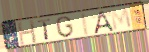A: (93, 9, 115, 35)
G: (55, 15, 75, 39)
H: (17, 19, 39, 46)
I: (80, 12, 91, 37)
M: (109, 6, 134, 32)
T: (37, 18, 53, 42)
